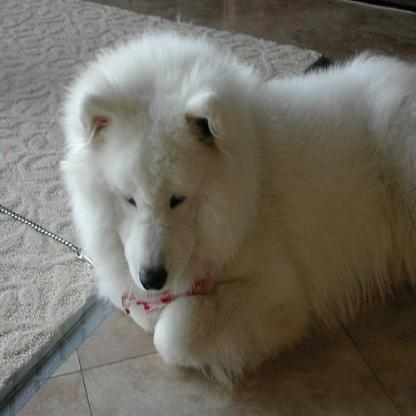Samoyed: (59, 30, 414, 393)
